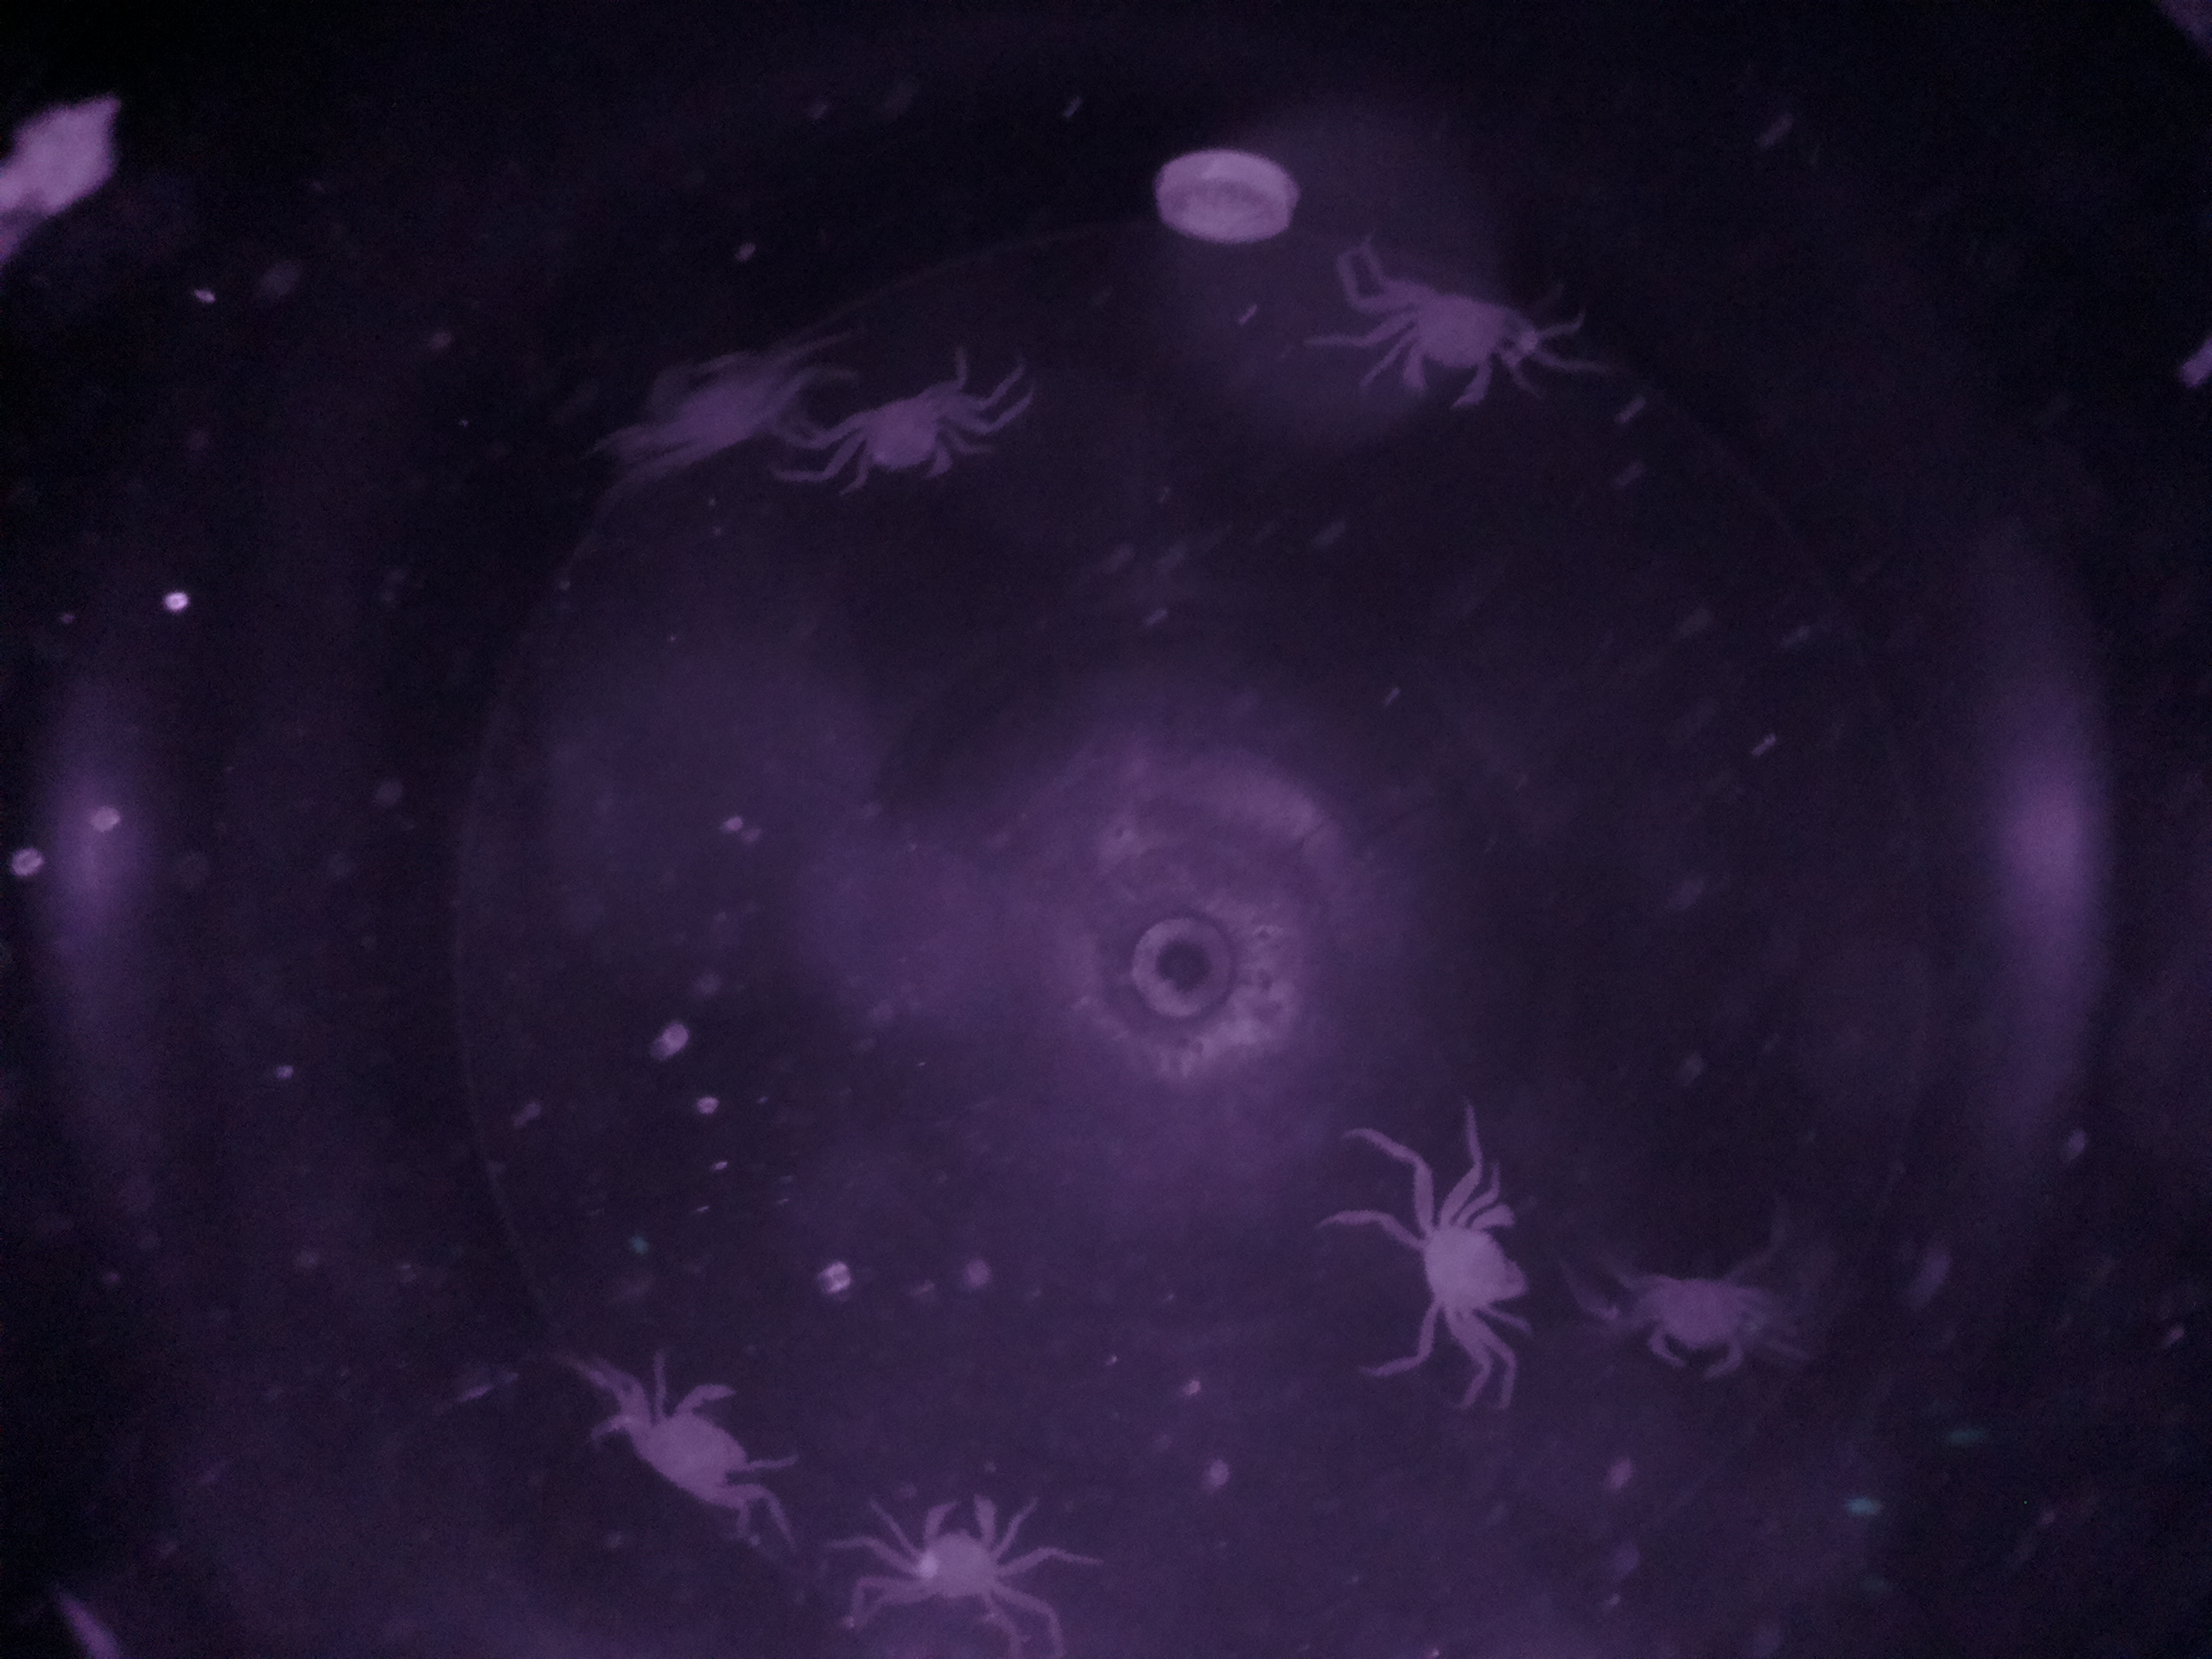Crab: (590, 1347, 789, 1549), (860, 1473, 1059, 1647), (1353, 268, 1576, 423), (1381, 1176, 1562, 1352), (810, 373, 1026, 505), (1613, 1256, 1791, 1401)
